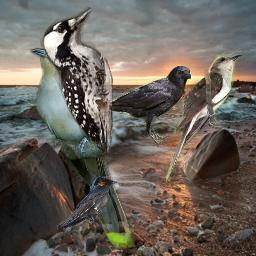Crow: (87, 65, 191, 148)
Cuckoo: (30, 45, 135, 249), (166, 54, 242, 181)
Swallow: (57, 176, 117, 229)
Woodpecker: (40, 7, 113, 153)
